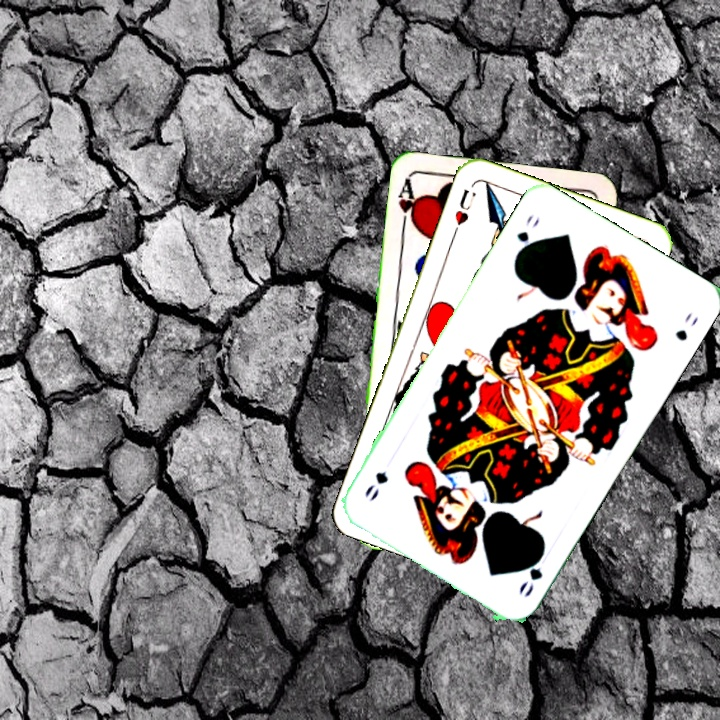GO: (511, 211, 543, 262), (514, 549, 546, 600)
HA: (394, 175, 422, 234)
HU: (449, 185, 473, 238)
